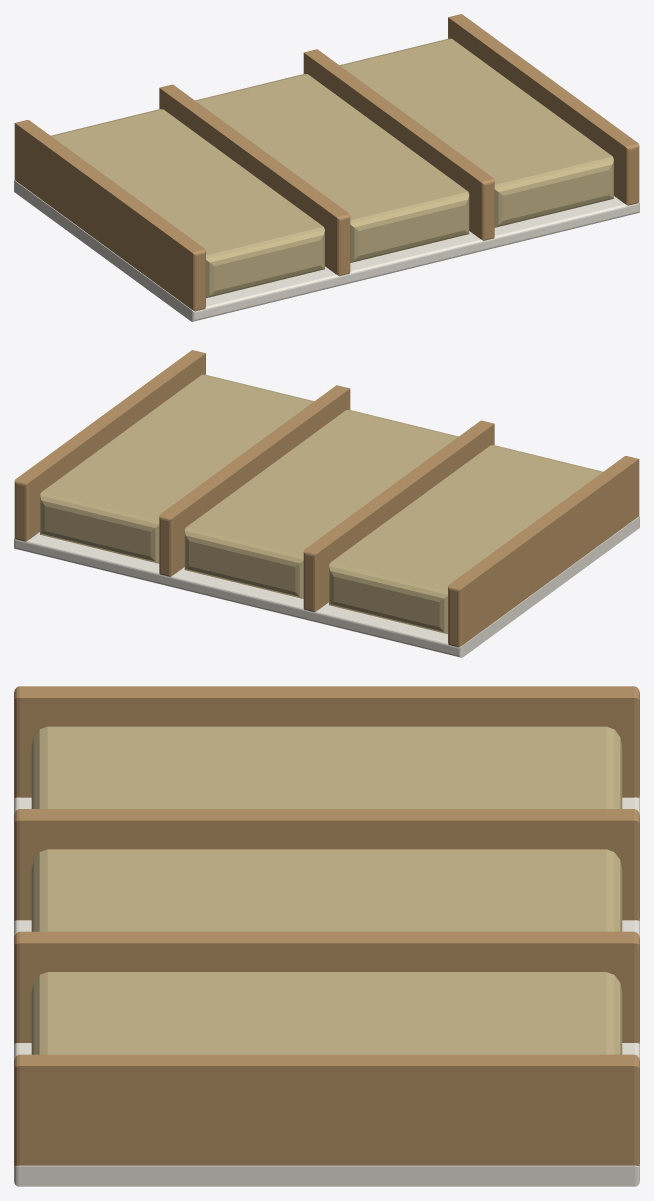
File: insulation.glb
3 views of the same model, one above another, from view 1: azimuth 30°, elevation 25°; view 2: azimuth 150°, elevation 25°; view 3: azimuth 270°, elevation 25° (orthographic). The views are drawn at different scales.
Parts seen in each view (by area): view 1: Illustrative insulation batt (×3), Timber ceiling joist (×4), Ceiling board; view 2: Illustrative insulation batt (×3), Timber ceiling joist (×4), Ceiling board; view 3: Timber ceiling joist (×4), Illustrative insulation batt (×3), Ceiling board.
Part boxes in pixels (<box>): Illustrative insulation batt (×3): <box>51,38,613,298</box>; Timber ceiling joist (×4): <box>14,14,639,311</box>; Ceiling board: <box>14,180,639,321</box>; Illustrative insulation batt (×3): <box>40,374,602,634</box>; Timber ceiling joist (×4): <box>14,350,639,647</box>; Ceiling board: <box>14,516,639,657</box>; Timber ceiling joist (×4): <box>14,686,639,1166</box>; Illustrative insulation batt (×3): <box>31,726,622,1054</box>; Ceiling board: <box>14,796,639,1186</box>.
Bounding box in the file's own units: 1.8 × 0.2645 × 1.25.
